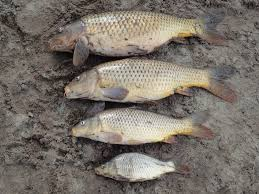carp: (64, 58, 238, 104), (48, 9, 208, 56), (69, 106, 215, 145), (93, 151, 177, 182)
